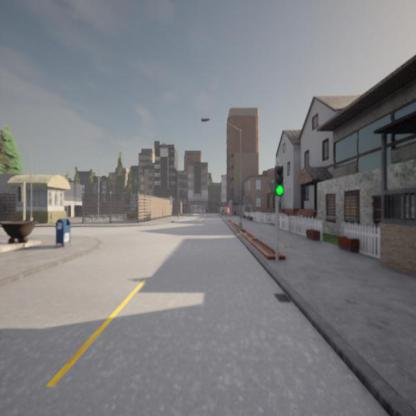traffic_light_green: (273, 165, 283, 195)
